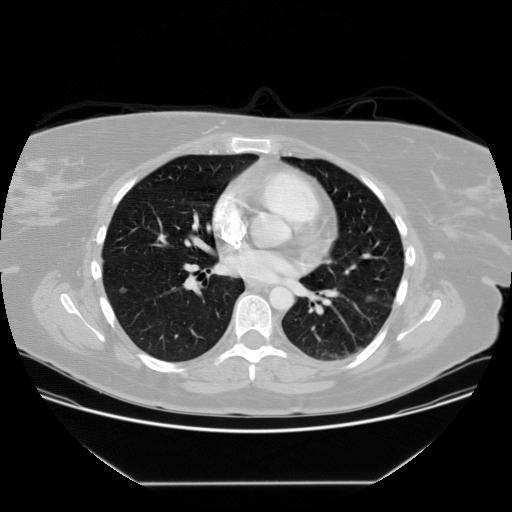nodule: (117, 284, 129, 296)
